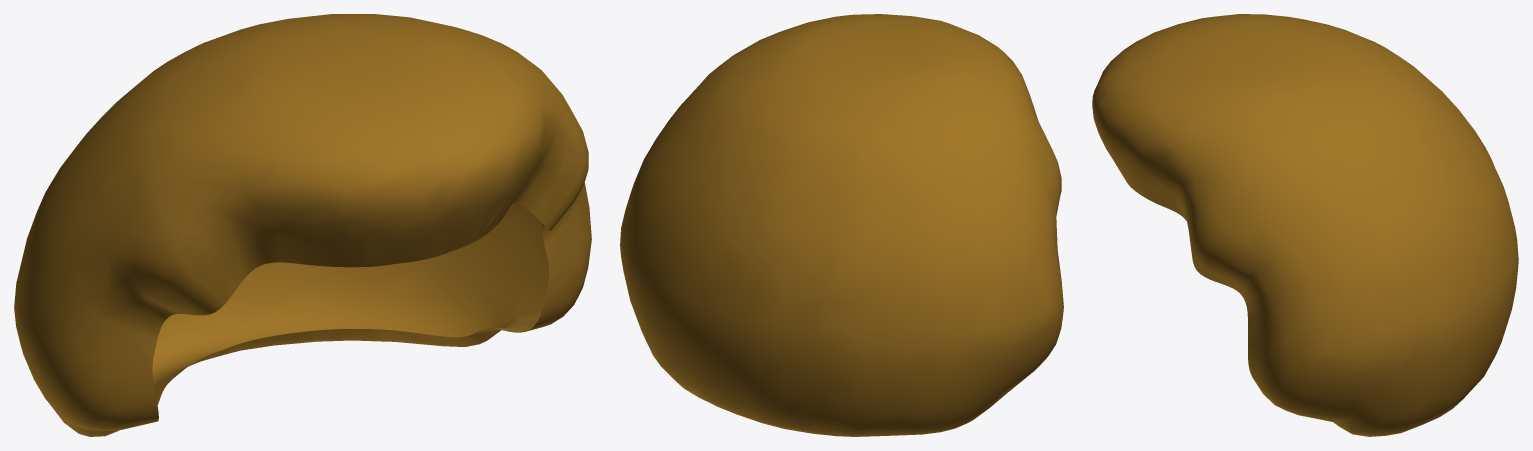
File: afro.fbx
3 renders of one model, left to right at view 1: azimuth 30°, elevation 25°; view 2: azimuth 150°, elevation 25°; view 3: azimuth 270°, elevation 25°, orthographic. The views are drawn at different scales.
Parts seen in each view (by area): view 1: afro; view 2: afro; view 3: afro.
Boxes of the visible parts, <box> form: afro: <box>14,14,591,436</box>; afro: <box>620,14,1063,436</box>; afro: <box>1092,14,1518,436</box>.
Bounding box in the file's own units: 39.77 × 27.43 × 33.57.
